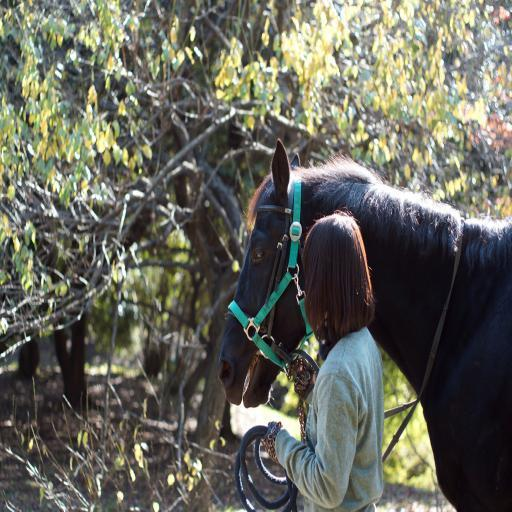horse: (216, 136, 512, 512)
